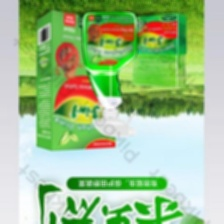book: (31, 7, 119, 151), (129, 8, 188, 91)
insecticide: (78, 9, 140, 139)
